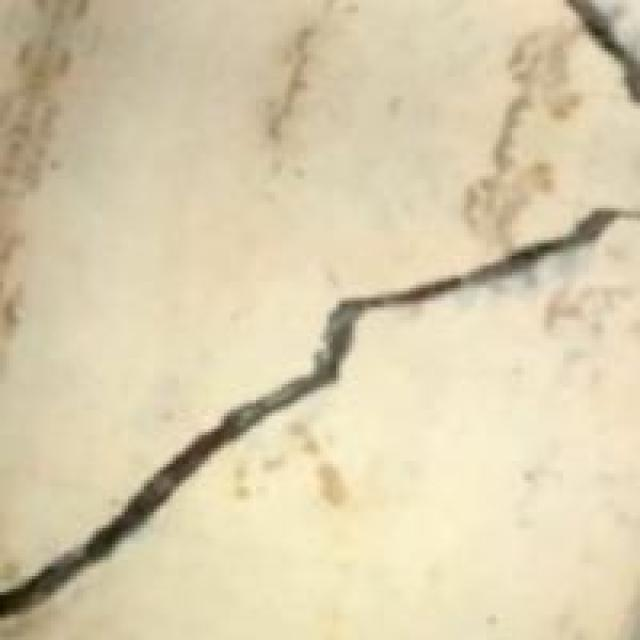SurfaceCrack: (0, 172, 640, 640)
